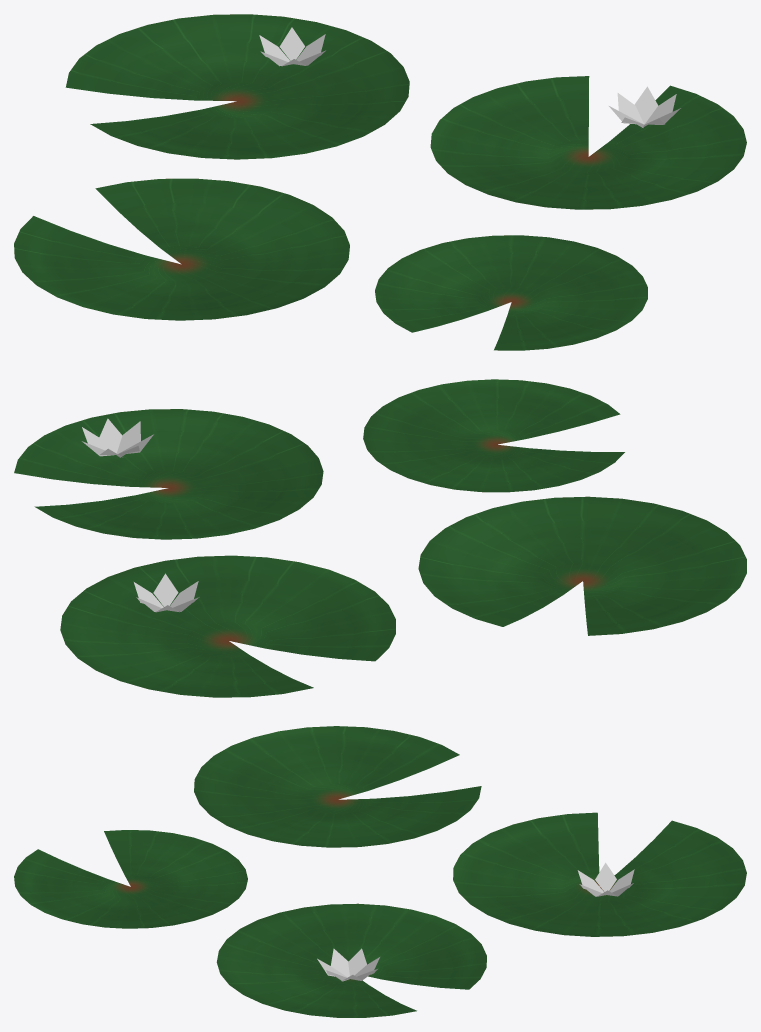
The model's file is water_lily_v2.fbx.
3 renders of one model, top to bottom at view 1: azimuth 30°, elevation 25°; view 2: azimuth 150°, elevation 25°; view 3: azimuth 270°, elevation 25°, orthographic. The views are drawn at different scales.
Parts seen in each view (by area): view 1: water_lily_v2; view 2: water_lily_v2; view 3: water_lily_v2.
Boxes of the visible parts, x1,y1,x2,y2 form: water_lily_v2: [14, 14, 746, 350]; water_lily_v2: [14, 379, 746, 697]; water_lily_v2: [14, 726, 746, 1017].
Bounding box in the file's own units: 74.15 × 4.2 × 78.9.
